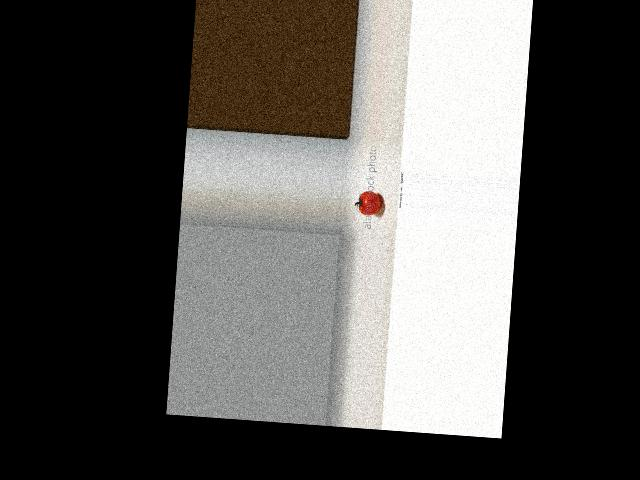tomato: (357, 190, 381, 216)
